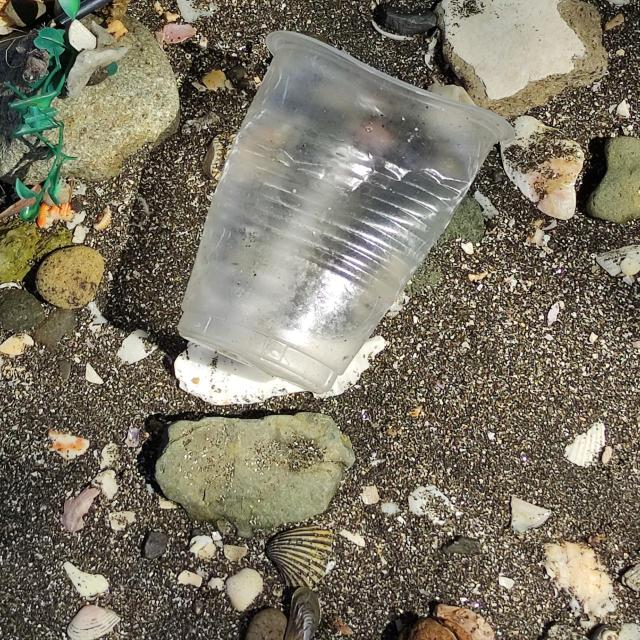plastic_waste: (174, 28, 520, 398)
